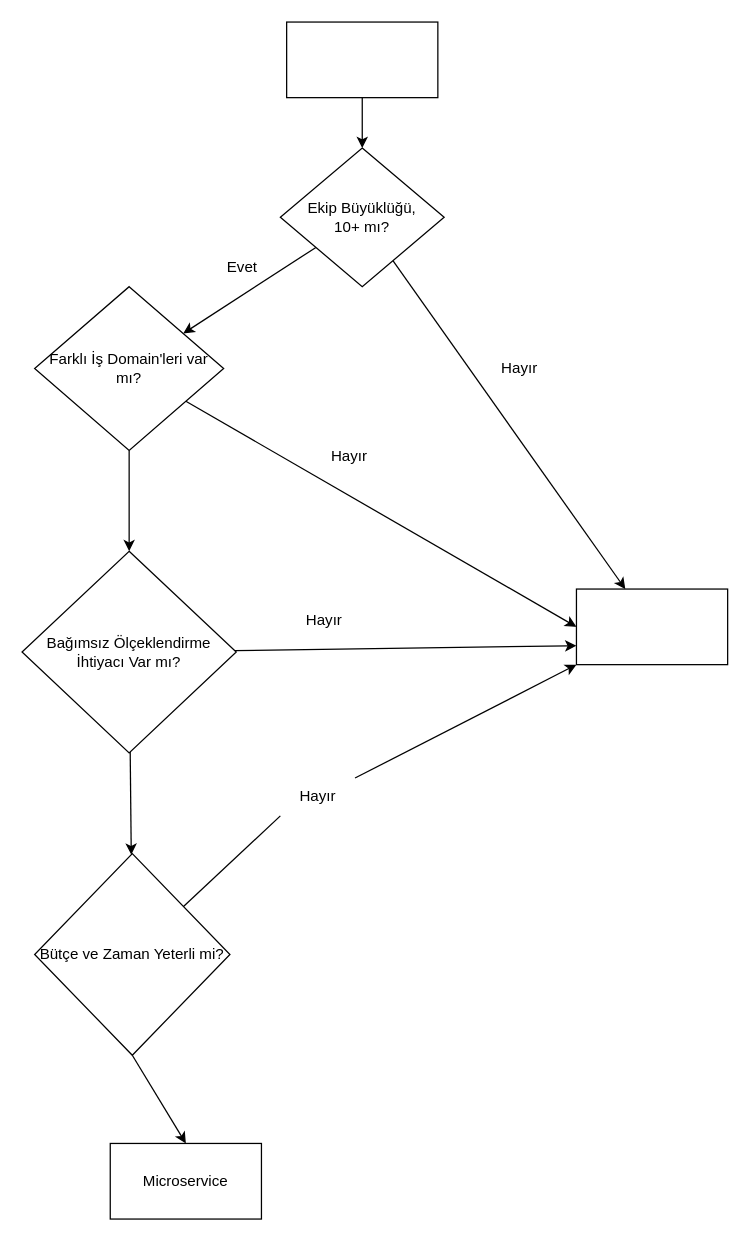
Some shapes in this 750 by 1241 pixel diagram are drawn without their labels. Here are the shapes that lost their labels. From the top down, the centre of each, then its label:
At (361,59): "Projenizi hangi mimariyle geliştireceksiniz?".
At (651,626): "Modüler Monolitik".
